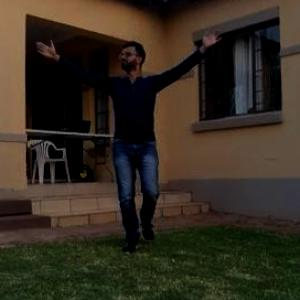takeoff: (36, 20, 238, 241)
